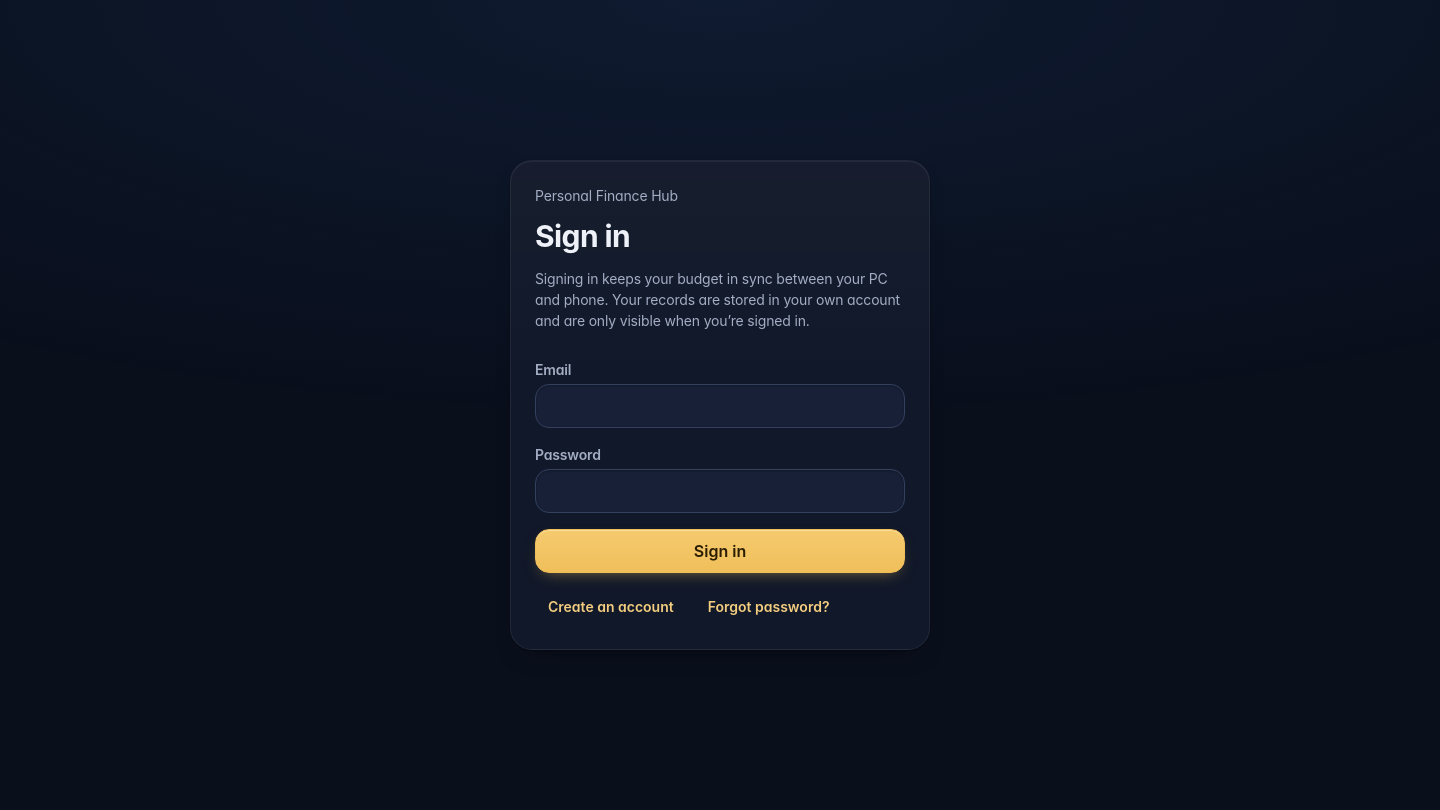
Test case: authentication › explains a wrong password
Type "me@example.test" into the field labelled "Email" at (720, 406), box [535,384,905,428]
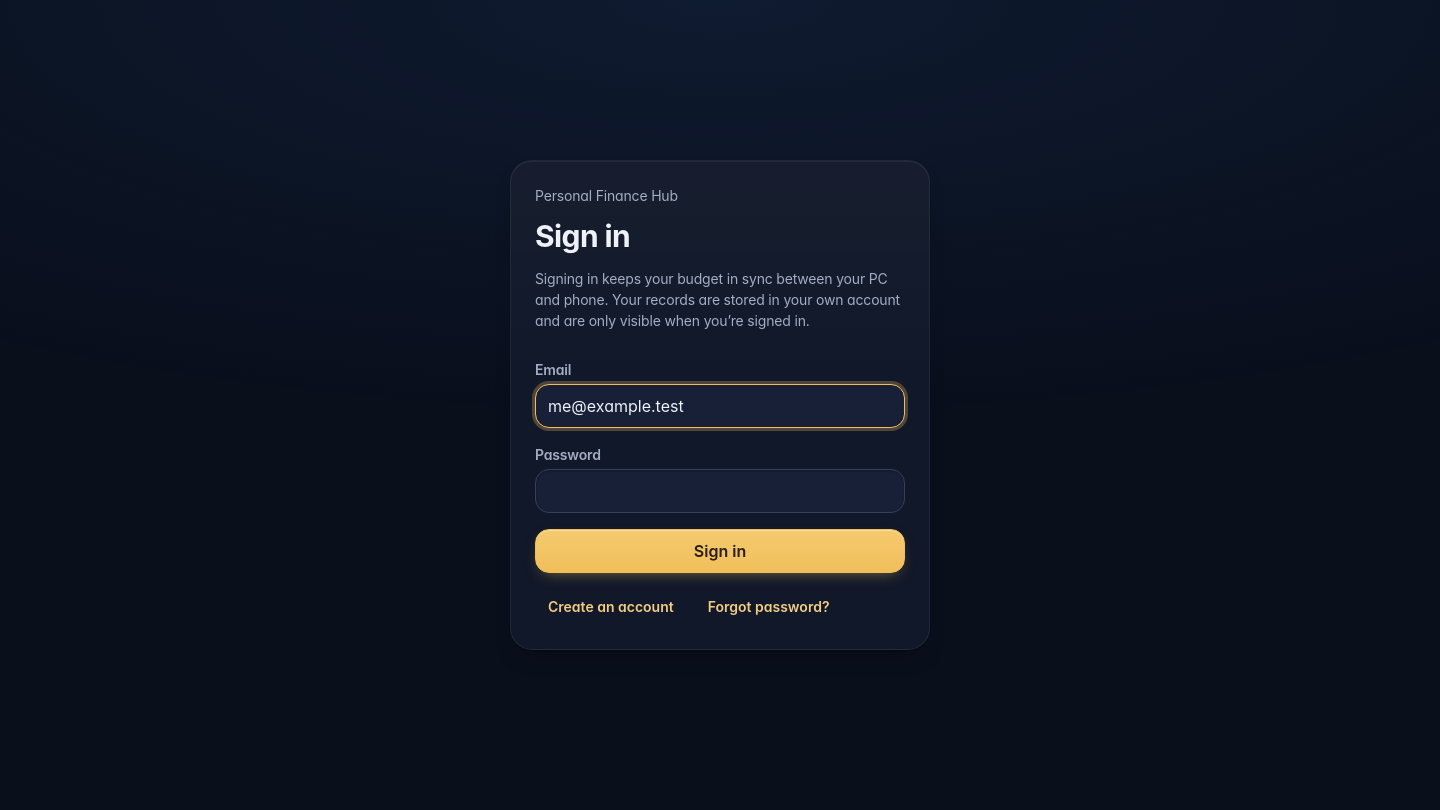
Type "wrong-password" into the password field labelled "Password" at (720, 491), box [535,469,905,513]
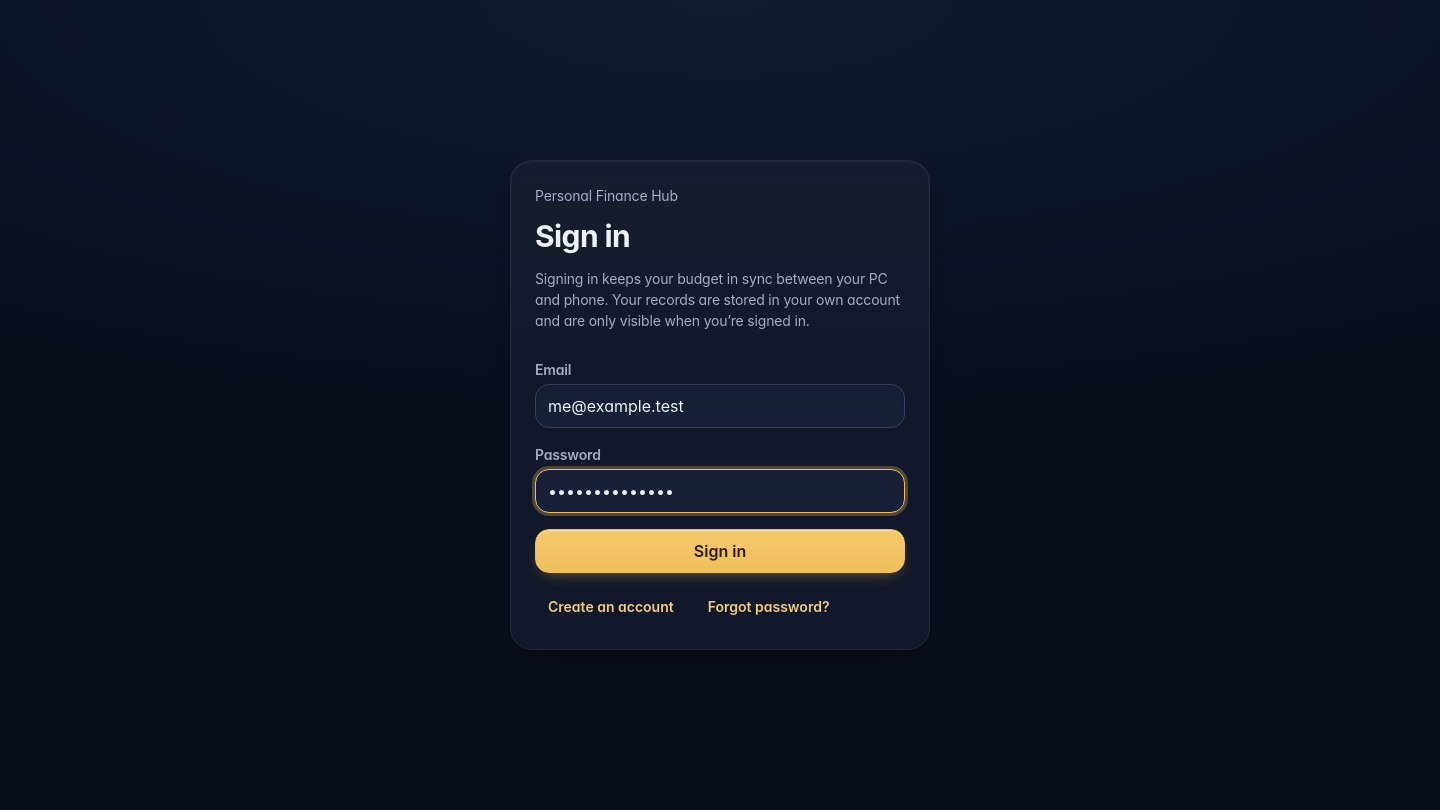
Click the button "Sign in" at (720, 551), box [535,529,905,573]
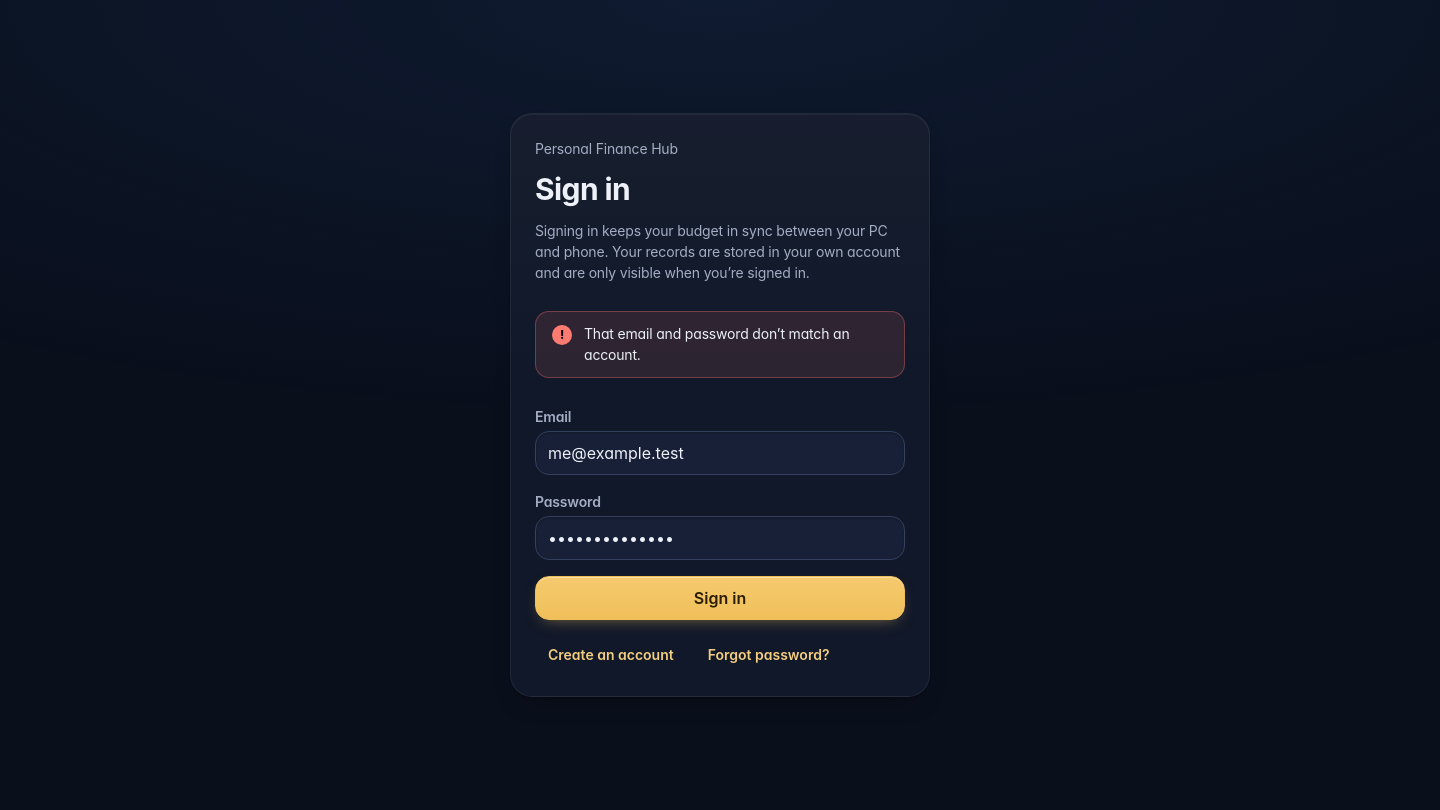
Expected: the text "That email and password don’t match an account." is shown, [584,324,888,365]
